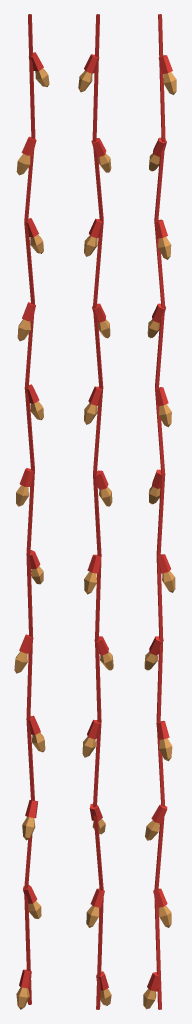
Rendered from SM_Light_String_Color_Big_Vertical_3m_Christmas.fbx.
The picture shows the model from 3 angles, left to right: view 1: azimuth 30°, elevation 25°; view 2: azimuth 210°, elevation 25°; view 3: azimuth 330°, elevation 25°; orthographic projection.
Visible parts, largest first — view 1: light-string-color-big-vertical-3m-christmas; view 2: light-string-color-big-vertical-3m-christmas; view 3: light-string-color-big-vertical-3m-christmas.
Part boxes in pixels (x1,y1,x2,y2): light-string-color-big-vertical-3m-christmas: (14, 14, 49, 1009); light-string-color-big-vertical-3m-christmas: (78, 14, 113, 1009); light-string-color-big-vertical-3m-christmas: (143, 14, 176, 1009).
Size of the model in its own units: 0.1045 by 3 by 0.0615.
